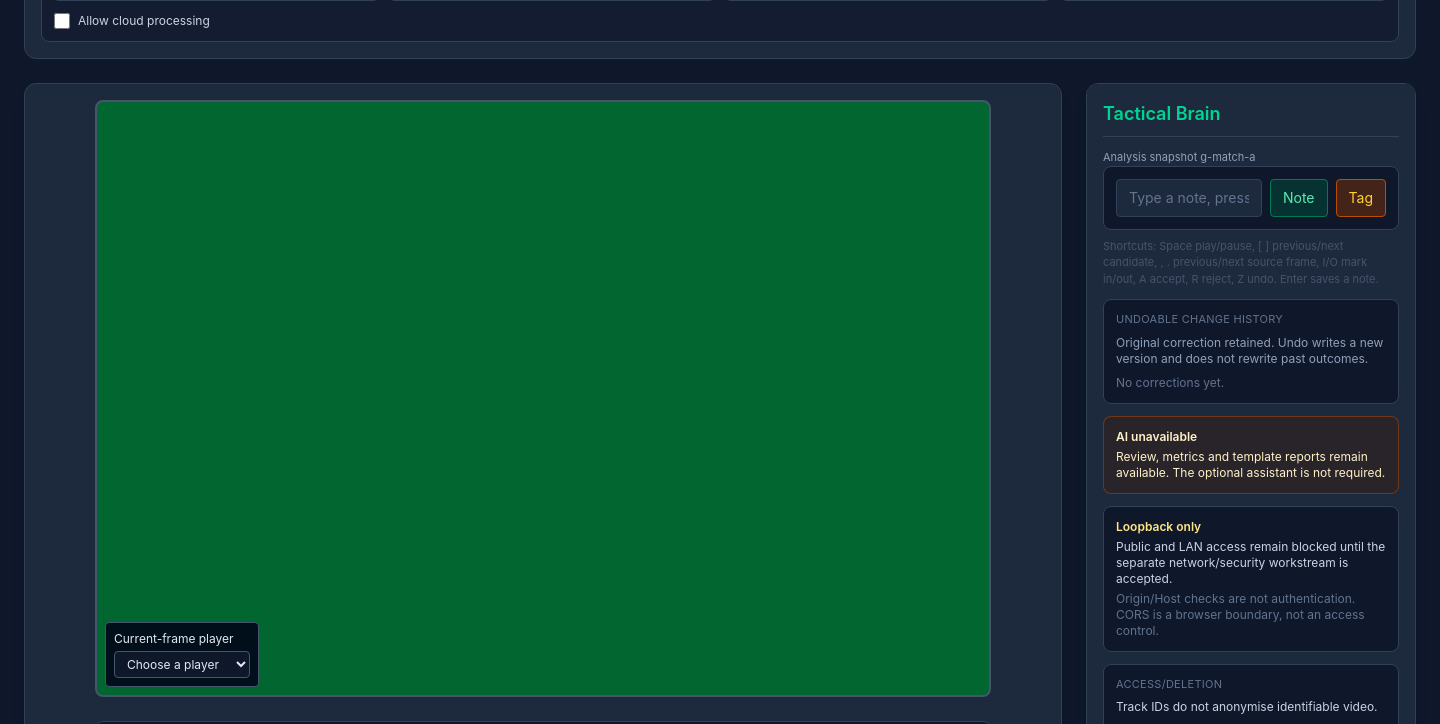
it: App match workspace loading › passes production identity continuity into the selected player detail panel
(page scrolled)
Click the picture at (543, 399), box [97,102,989,695]
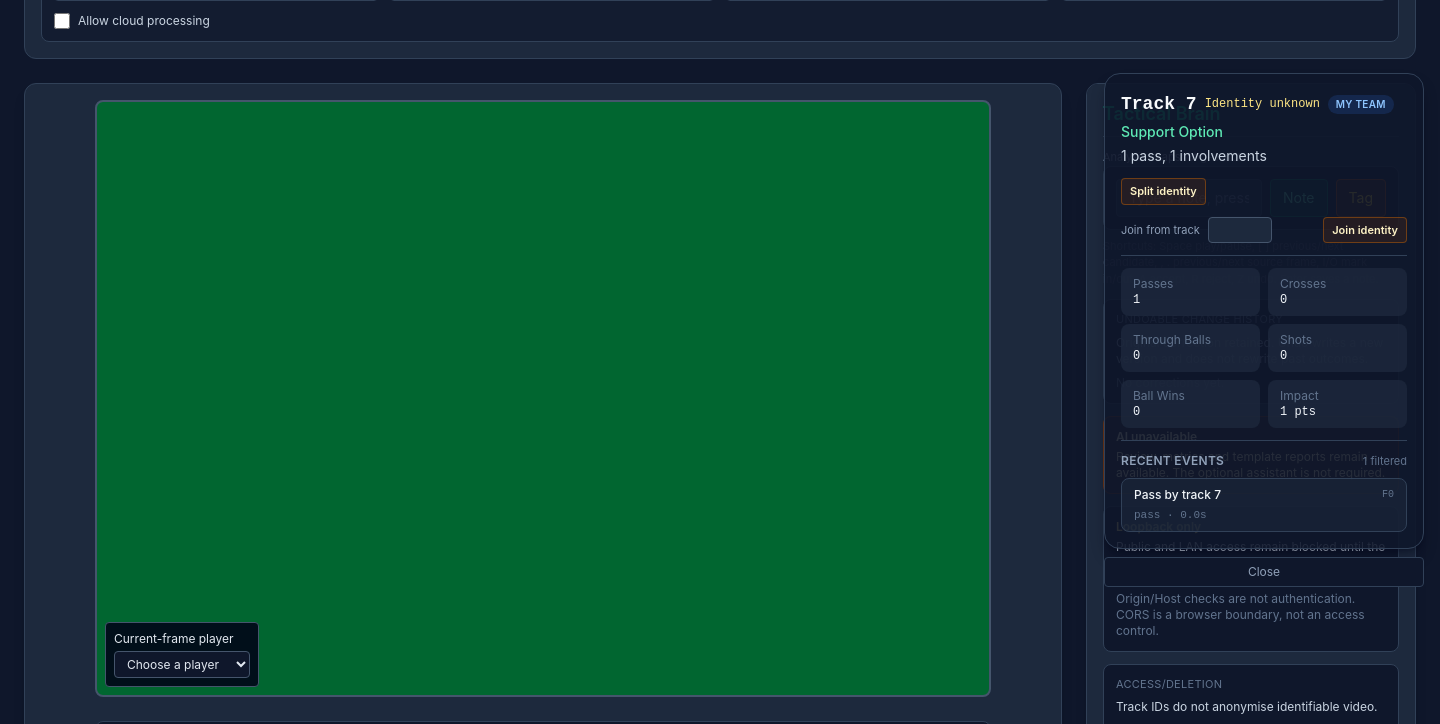
Expected: the heading "Track 7" is shown, [1121,90,1197,118]
